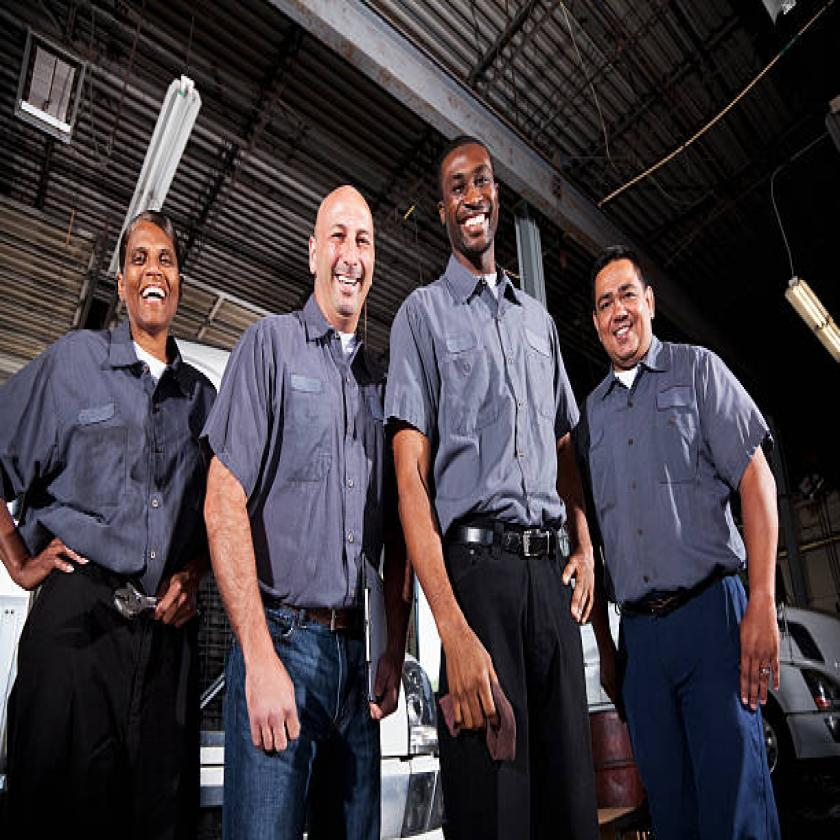Sin_casco: (100, 193, 222, 364), (294, 169, 388, 343), (583, 232, 664, 372), (418, 134, 501, 266)
